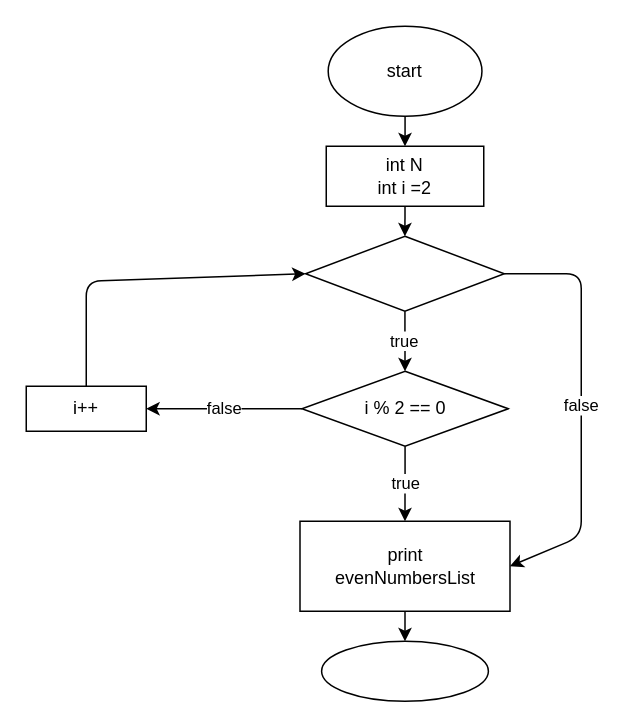
Image size: 624x728. Some labels were removed from this diagram. The centre of each missing label's shape, as x and y in pixels:
i >= N: the point at 404,273
the end: the point at 404,670
